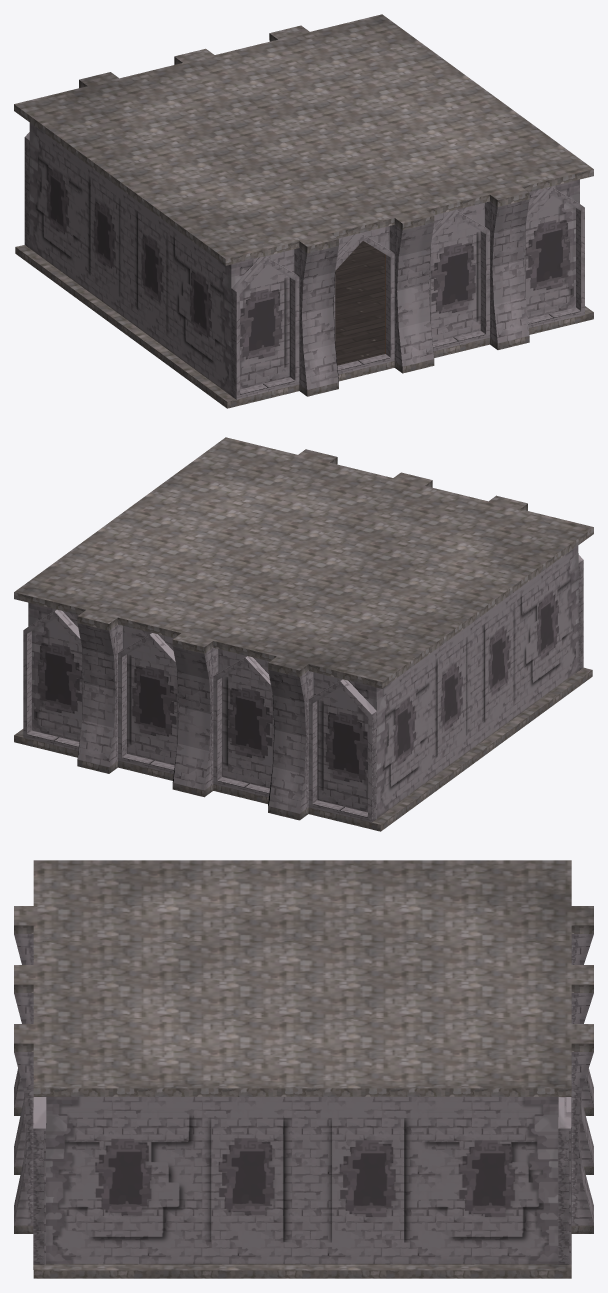
The model's file is City1b_Modular_Interior_Brick 2.fbx.
The picture shows the model from 3 angles, top to bottom: view 1: azimuth 30°, elevation 25°; view 2: azimuth 150°, elevation 25°; view 3: azimuth 270°, elevation 25°; orthographic projection. The views are drawn at different scales.
Parts seen in each view (by area): view 1: interior level.001; view 2: interior level.001; view 3: interior level.001.
Boxes of the visible parts, bbox=[...] form: interior level.001: bbox=[14, 14, 593, 408]; interior level.001: bbox=[14, 437, 593, 831]; interior level.001: bbox=[14, 860, 593, 1278].
Bounding box in the file's own units: 1057 × 411 × 1136.
